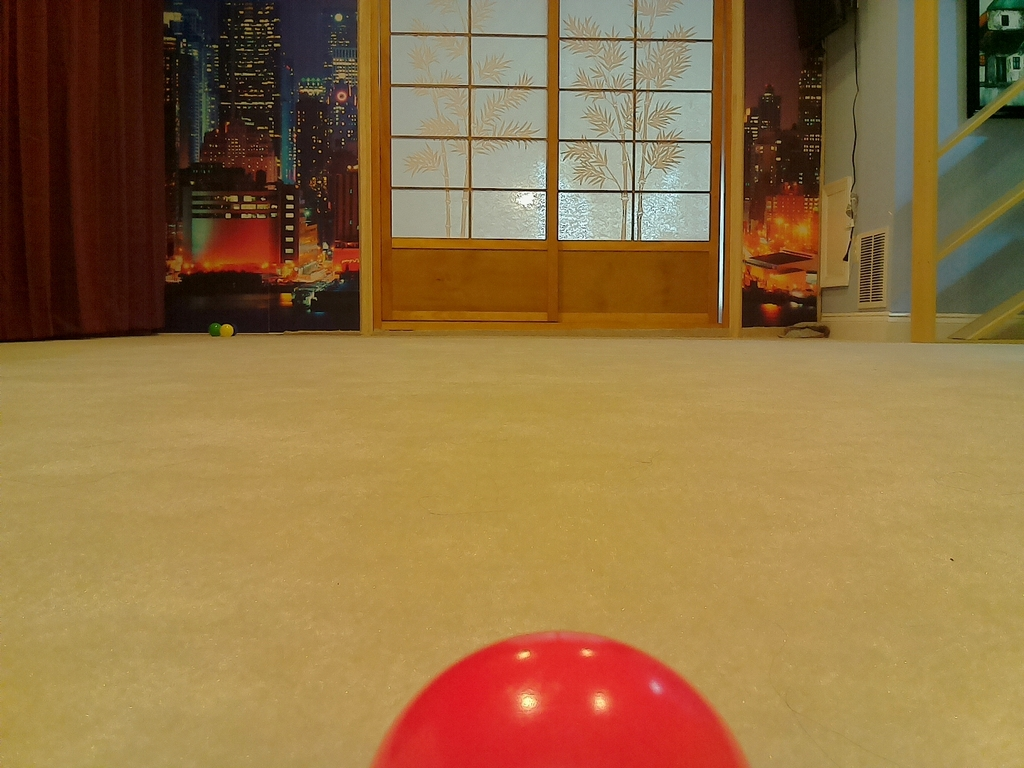ball: (212, 322, 221, 335)
